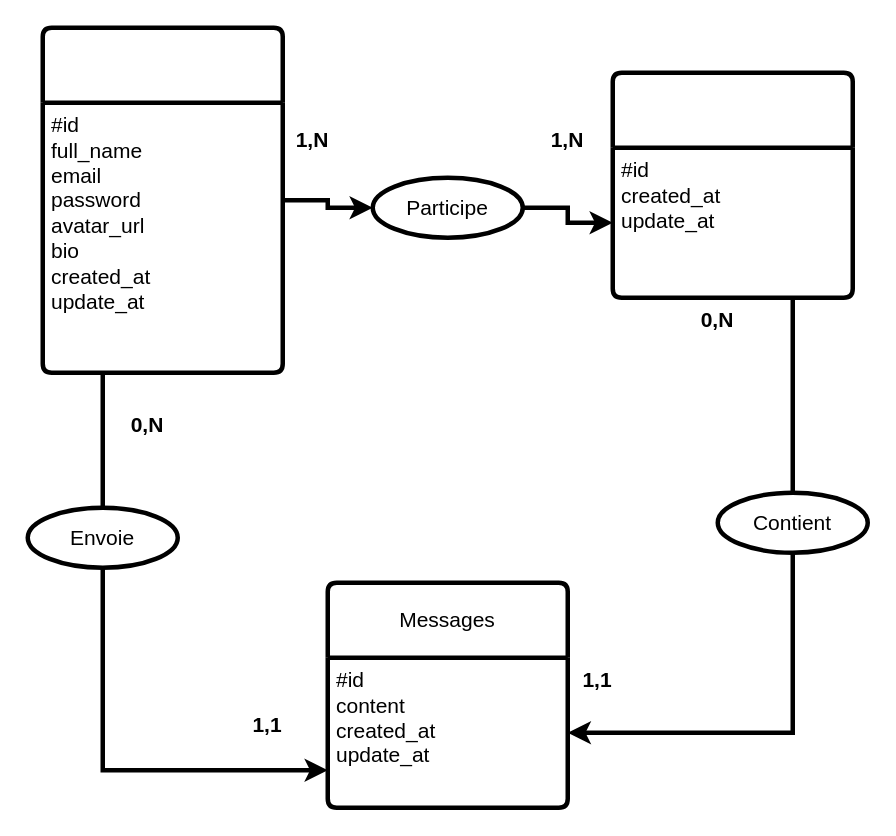
Image size: 896x836. Some labels were removed from this diagram. The shapes that lost their labels are listed below. From the top down, each one's box as (x1, y1, x2, y2) in pixels, then its label:
(40, 25, 284, 374): Users
(610, 70, 854, 299): Conversations
